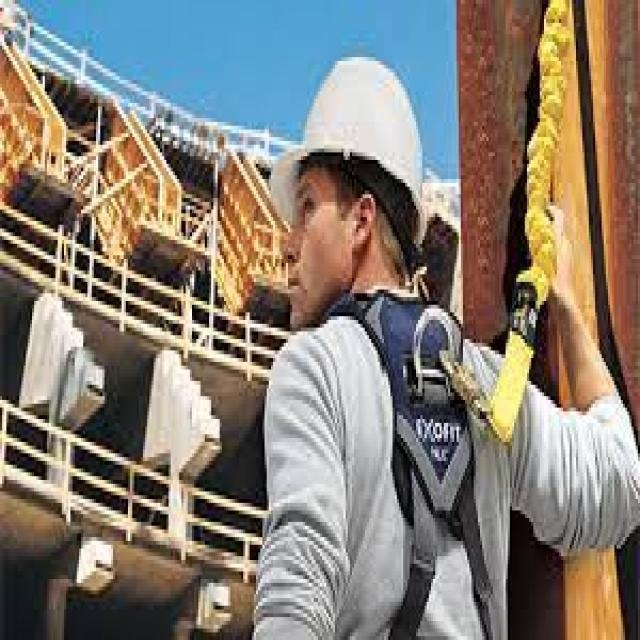Arnes_seguridad: (341, 279, 512, 640)
